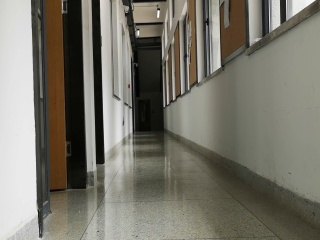room: (25, 1, 91, 213)
